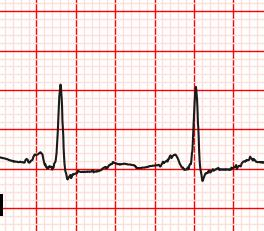ST Depression: (45, 150, 80, 182)
